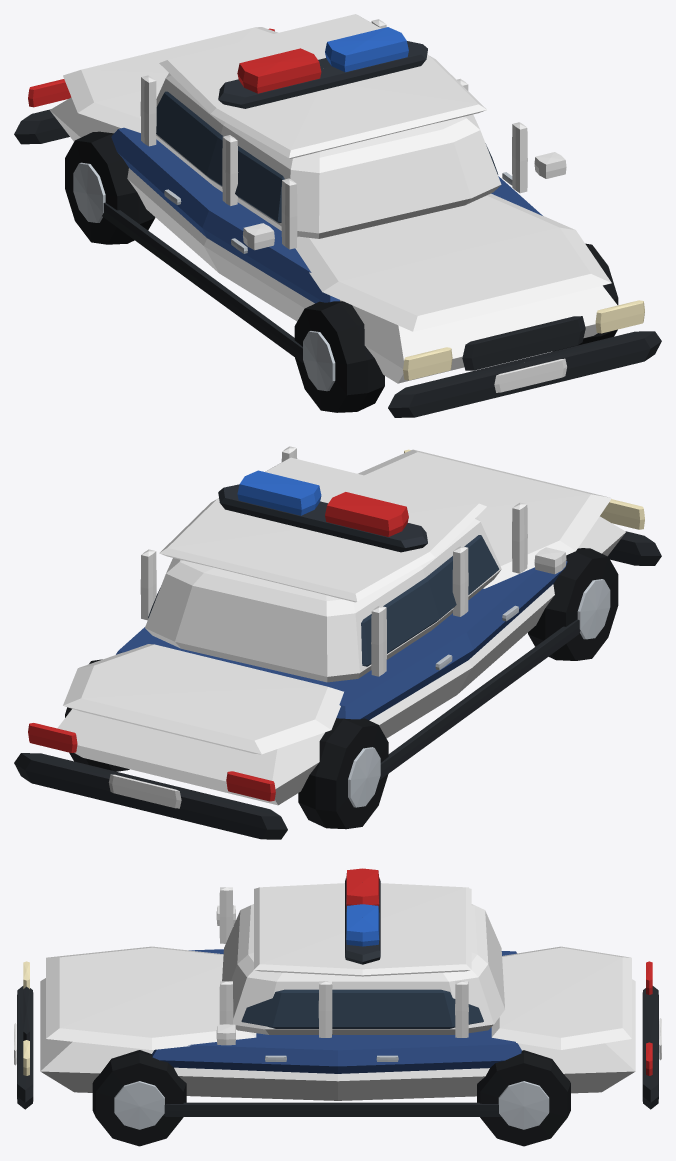
The model's file is s-police.glb.
3 views of the same model, one above another, from view 1: azimuth 30°, elevation 25°; view 2: azimuth 150°, elevation 25°; view 3: azimuth 270°, elevation 25° (orthographic). The views are drawn at different scales.
Visible parts, largest first — view 1: p; view 2: p; view 3: p.
Boxes of the visible parts, x1,y1,x2,y2 form: p: (14, 14, 661, 417); p: (14, 446, 661, 839); p: (14, 868, 661, 1146).
Bounding box in the file's own units: 2.16 × 1.52 × 4.6.
